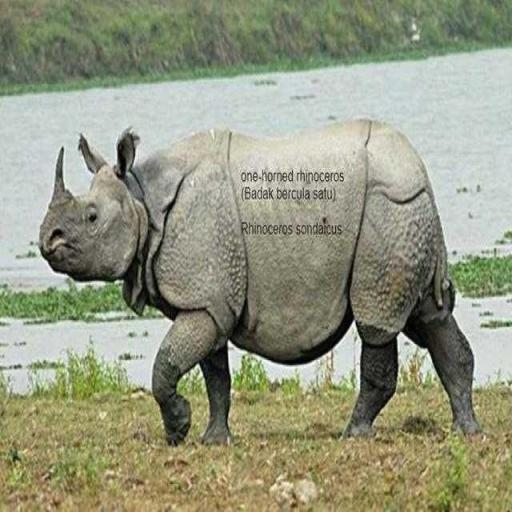Rhino: (38, 116, 480, 448)
